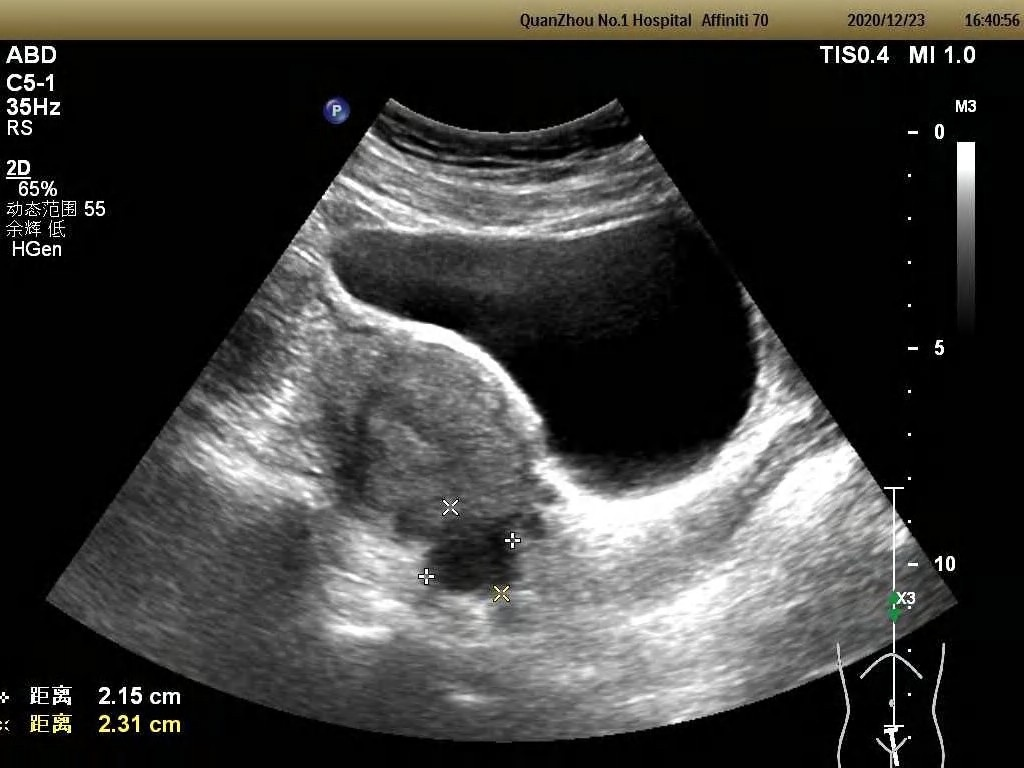肌瘤: (424, 515, 518, 596)
